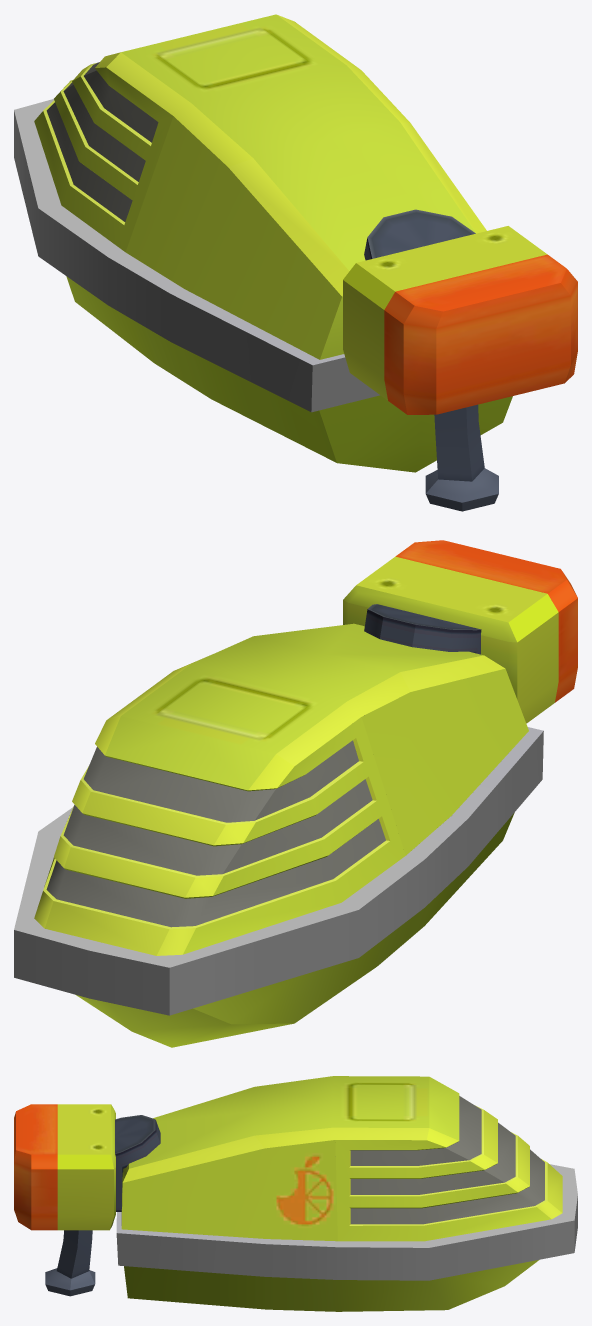
Rendered from boat.fbx.
3 renders of one model, top to bottom at view 1: azimuth 30°, elevation 25°; view 2: azimuth 150°, elevation 25°; view 3: azimuth 270°, elevation 25°, orthographic. The views are drawn at different scales.
Visible parts, largest first — view 1: boat; view 2: boat; view 3: boat.
Boxes of the visible parts, x1,y1,x2,y2 form: boat: [14, 14, 577, 511]; boat: [14, 540, 577, 1047]; boat: [14, 1076, 577, 1311].
Bounding box in the file's own units: 88.34 × 78.14 × 198.
